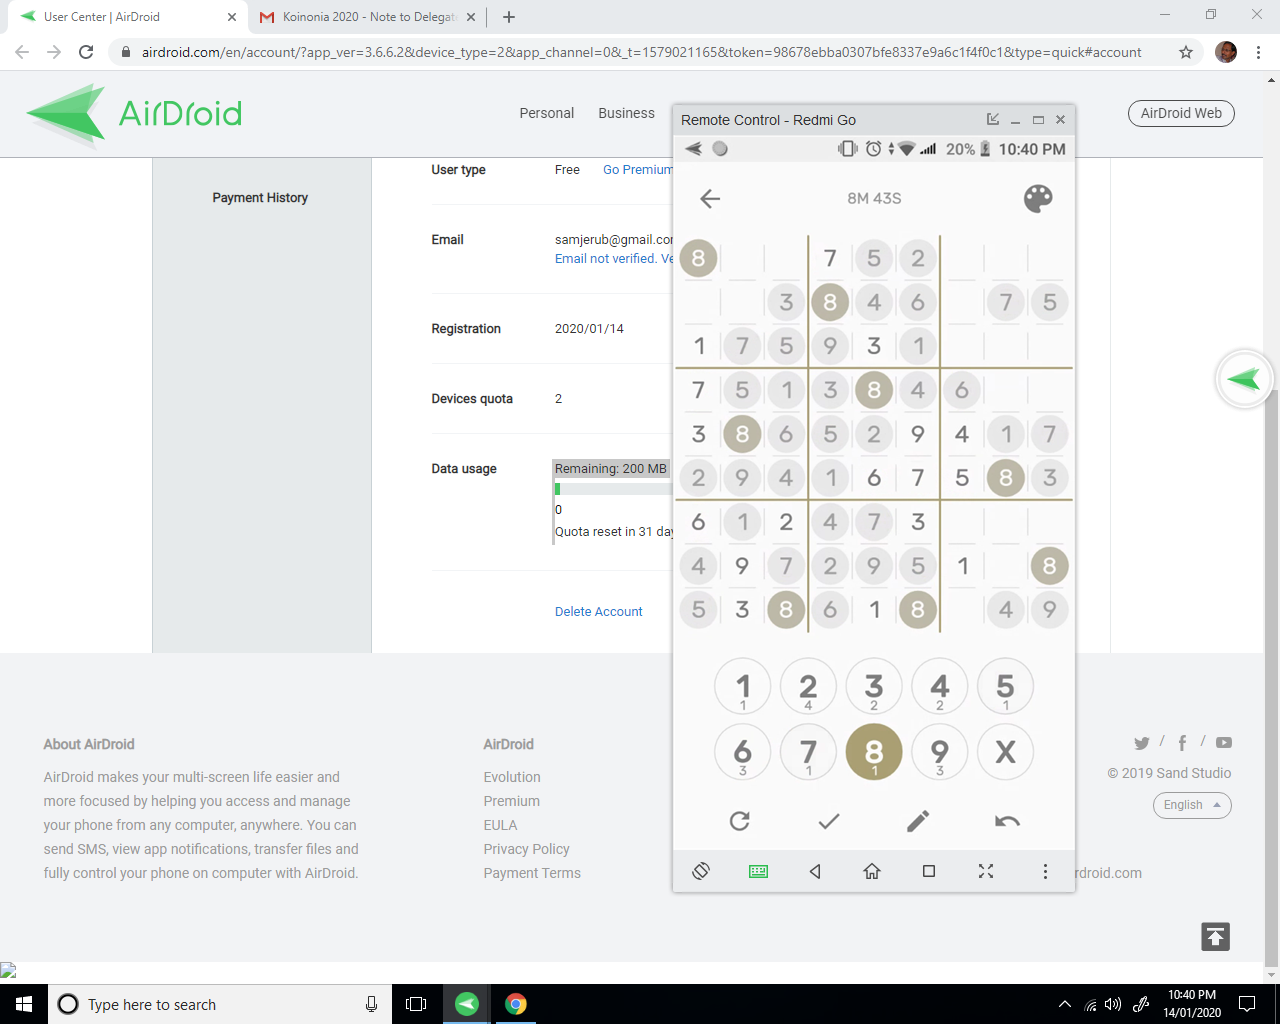8A: (840, 718, 909, 783), (850, 367, 899, 411), (673, 238, 722, 280), (767, 587, 808, 635), (1028, 545, 1074, 587), (723, 410, 766, 452), (897, 588, 940, 630), (808, 279, 851, 321), (984, 459, 1027, 498)
X: (975, 719, 1042, 783)
box: (673, 137, 1074, 851)
